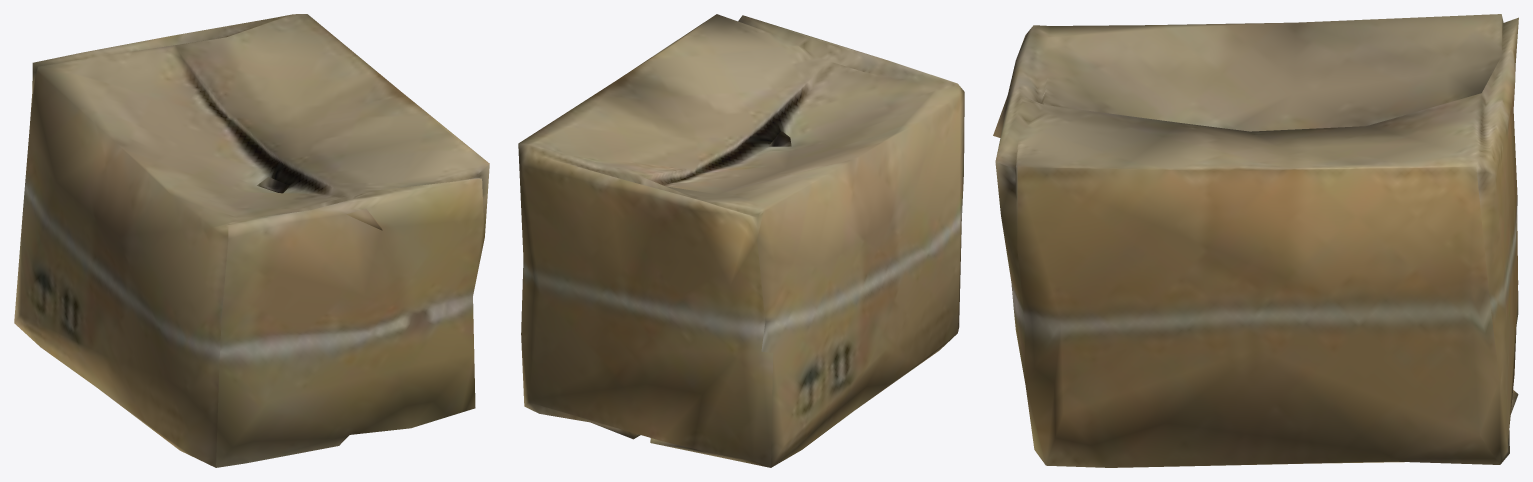
The model's file is cardboard_box_01.glb.
3 renders of one model, left to right at view 1: azimuth 30°, elevation 25°; view 2: azimuth 150°, elevation 25°; view 3: azimuth 270°, elevation 25°, orthographic. The views are drawn at different scales.
Visible parts, largest first — view 1: cardboard_box_01; view 2: cardboard_box_01; view 3: cardboard_box_01.
Part boxes in pixels (x1,y1,x2,y2): cardboard_box_01: [14, 14, 489, 467]; cardboard_box_01: [518, 14, 964, 467]; cardboard_box_01: [993, 14, 1518, 467].
Bounding box in the file's own units: 0.3869 × 0.3389 × 0.5151.
Materials: 1 (1 with a texture image).
